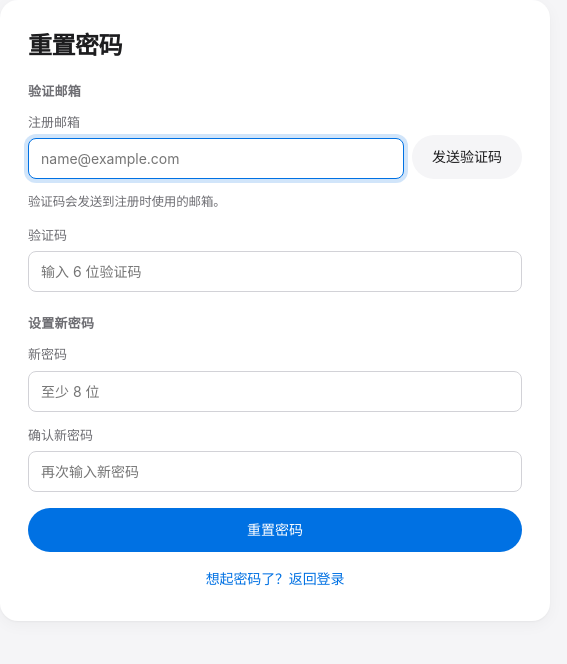
Test case: P02 忘记密码 › 邮箱格式不合法时不发请求，错误落在邮箱字段
In the field labelled "注册邮箱": (216, 158) [28,138,404,179], type "not-an-email"
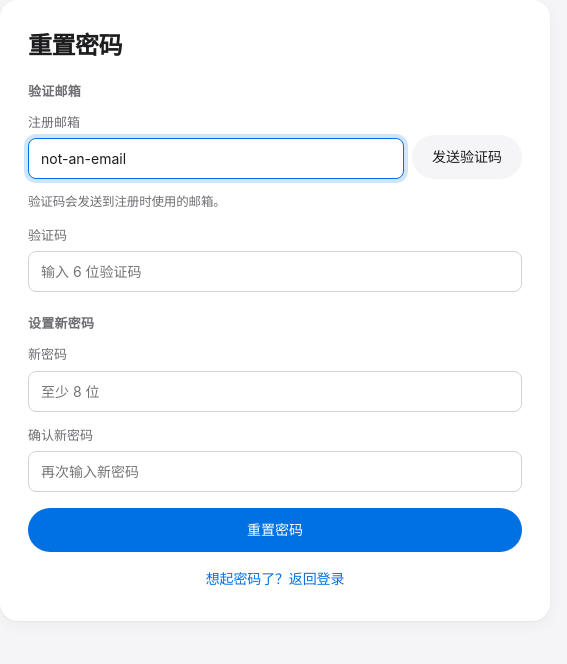
Click the button with test id "forgot-send-code": (467, 156) [412,134,522,178]
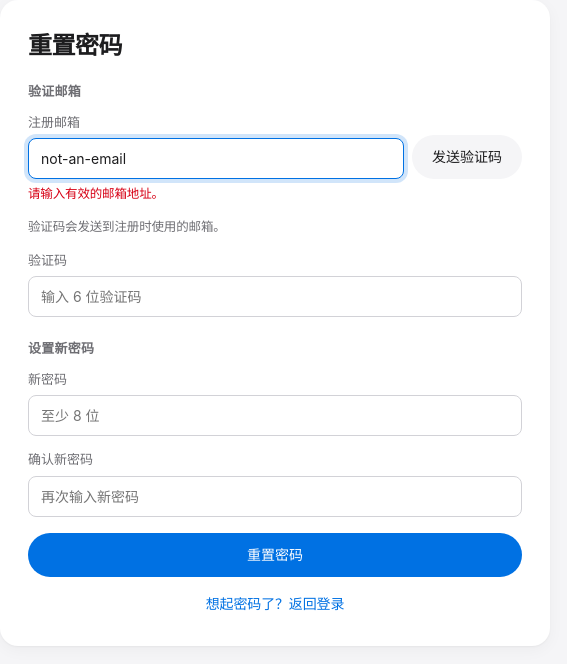
Expected: the text "请输入有效的邮箱地址。" is shown, [28,186,164,201]
